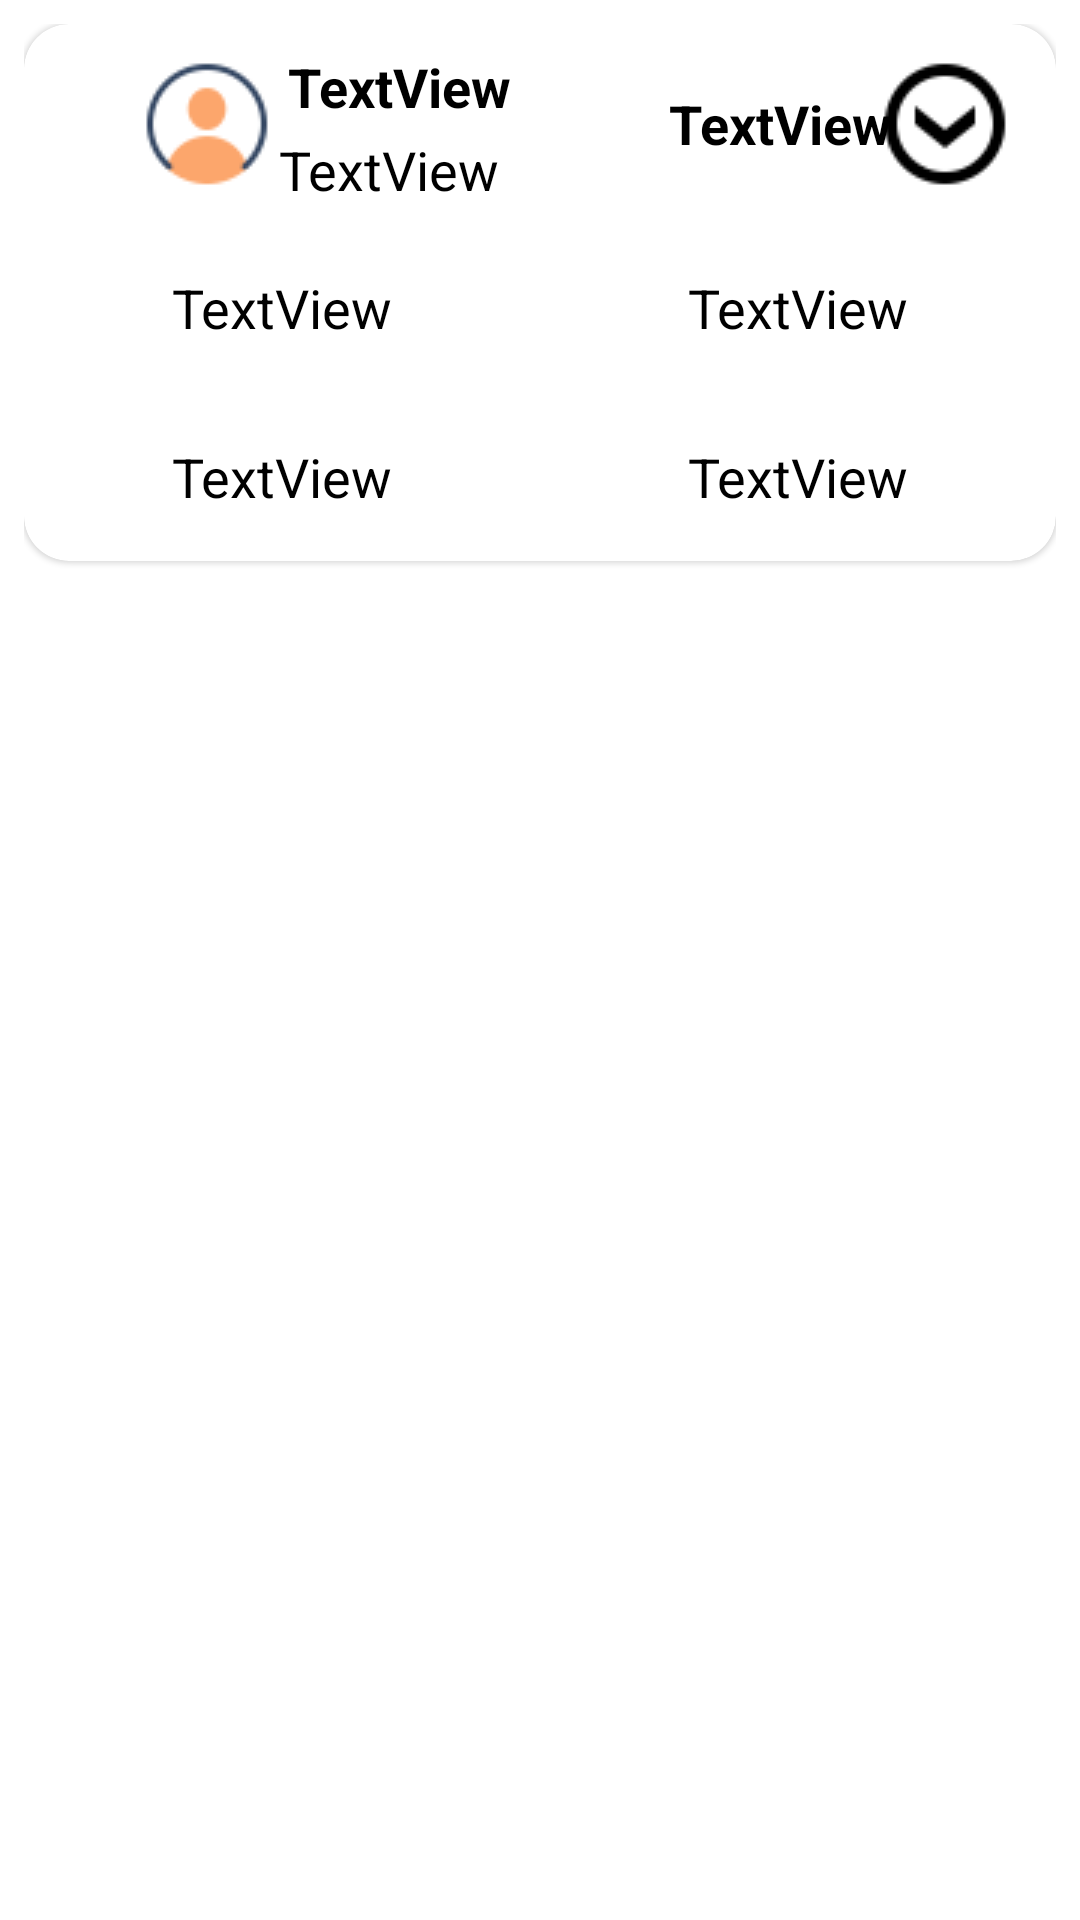

Where icons sit on this 1080×1920 app screen, as region(x1, y1, x2, y2):
arrow down: region(873, 63, 1006, 185)
perfil: region(146, 63, 268, 185)
